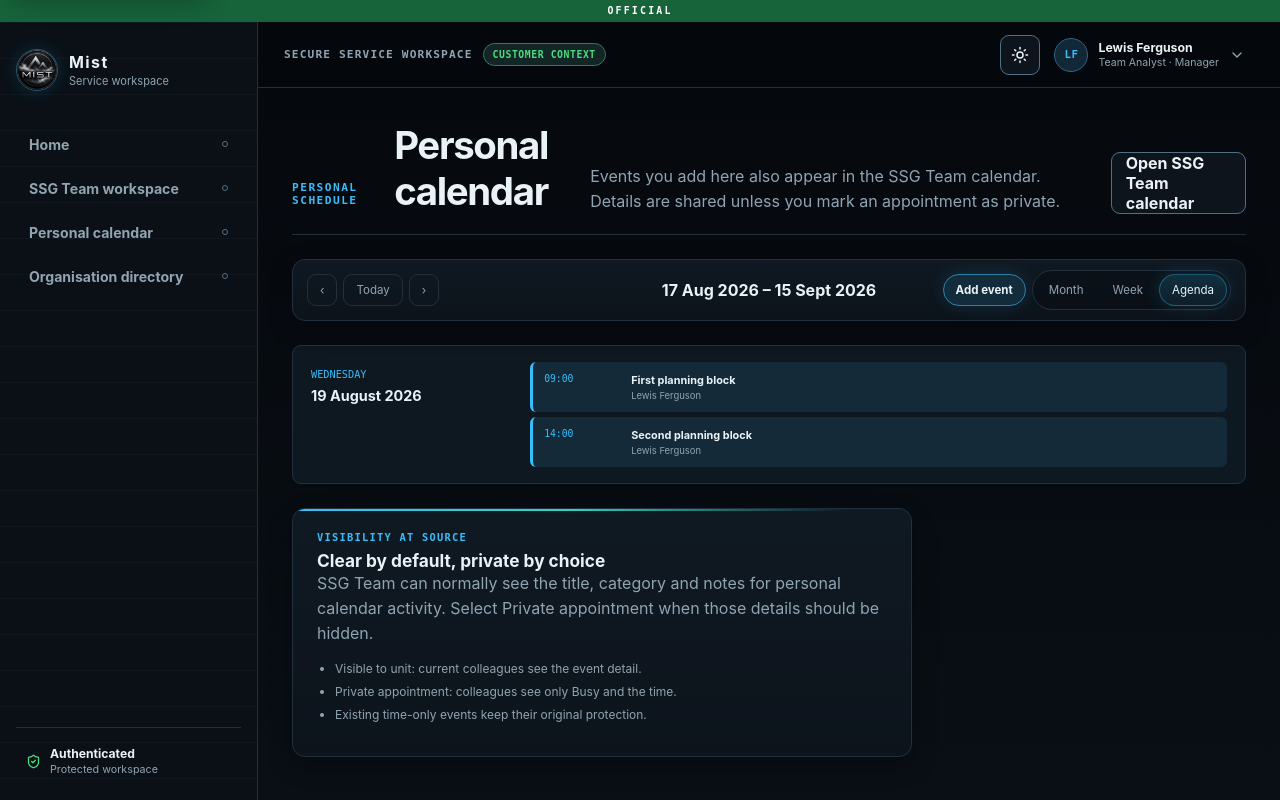
Scenario: canonical workforce calendar › resets editable values when a different occurrence is selected
Click the button "09:00 First planning block Lewis Ferguson" at (683,380), box [530,362,1227,412]
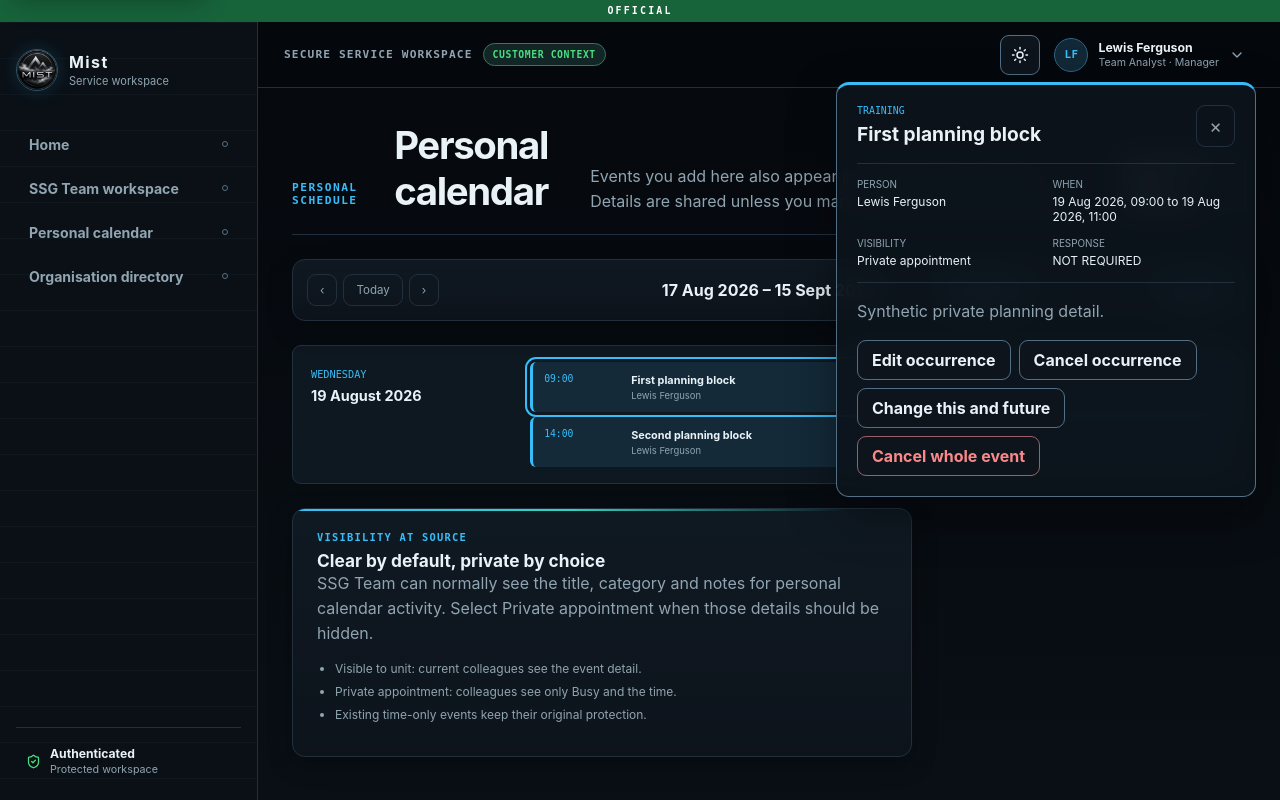
Click the button "Edit occurrence" at (934,360), box [857,340,1011,380]
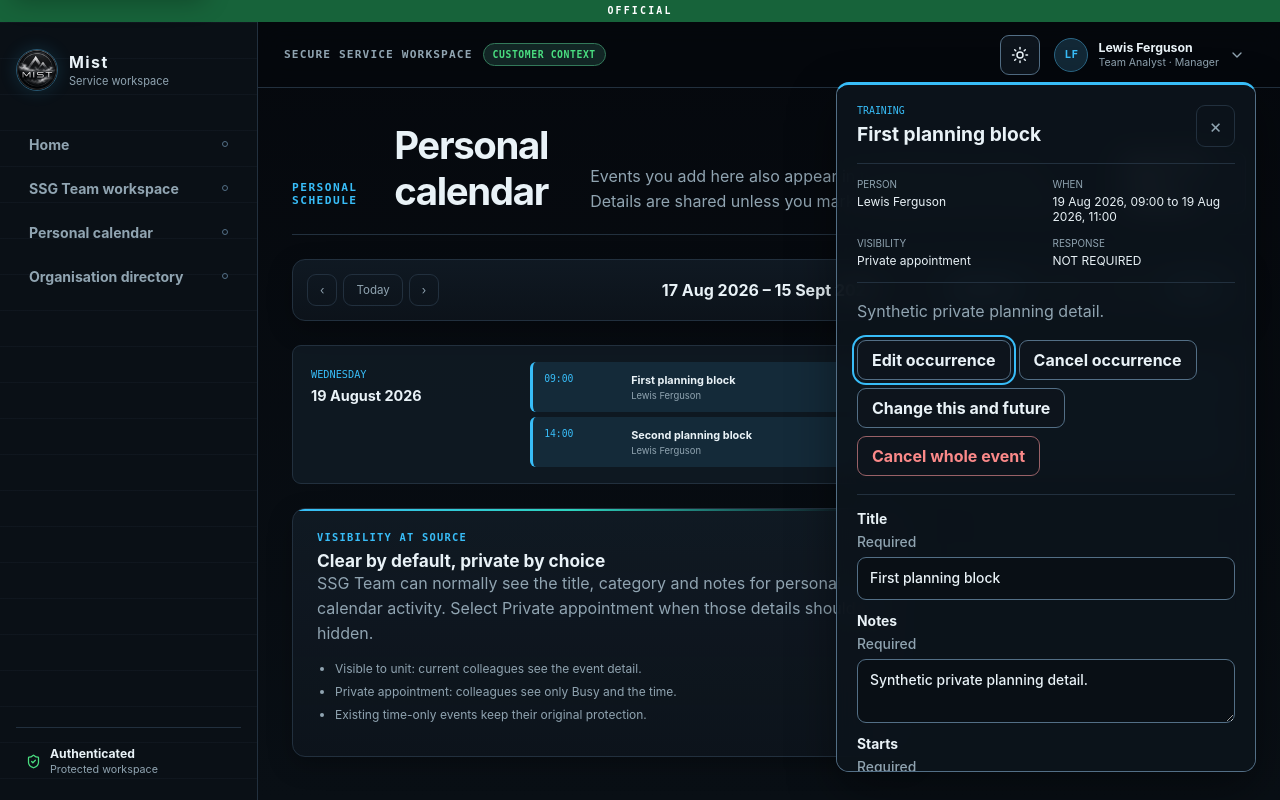
Replace the text in the field labelled "Title Required" with "Unsaved first occurrence value" at (1046,578), box [857,557,1235,600]
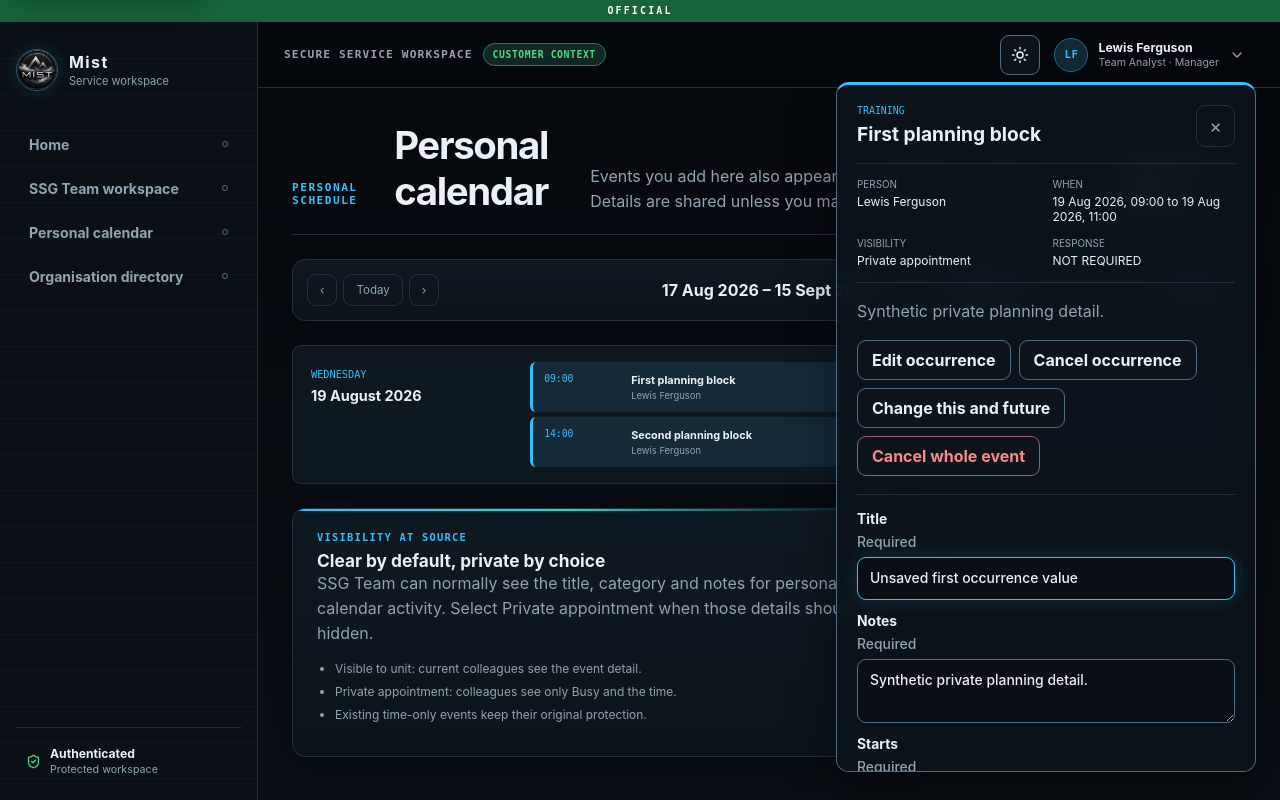
Click the button "14:00 Second planning block Lewis Ferguson" at (692,435), box [530,417,1227,467]
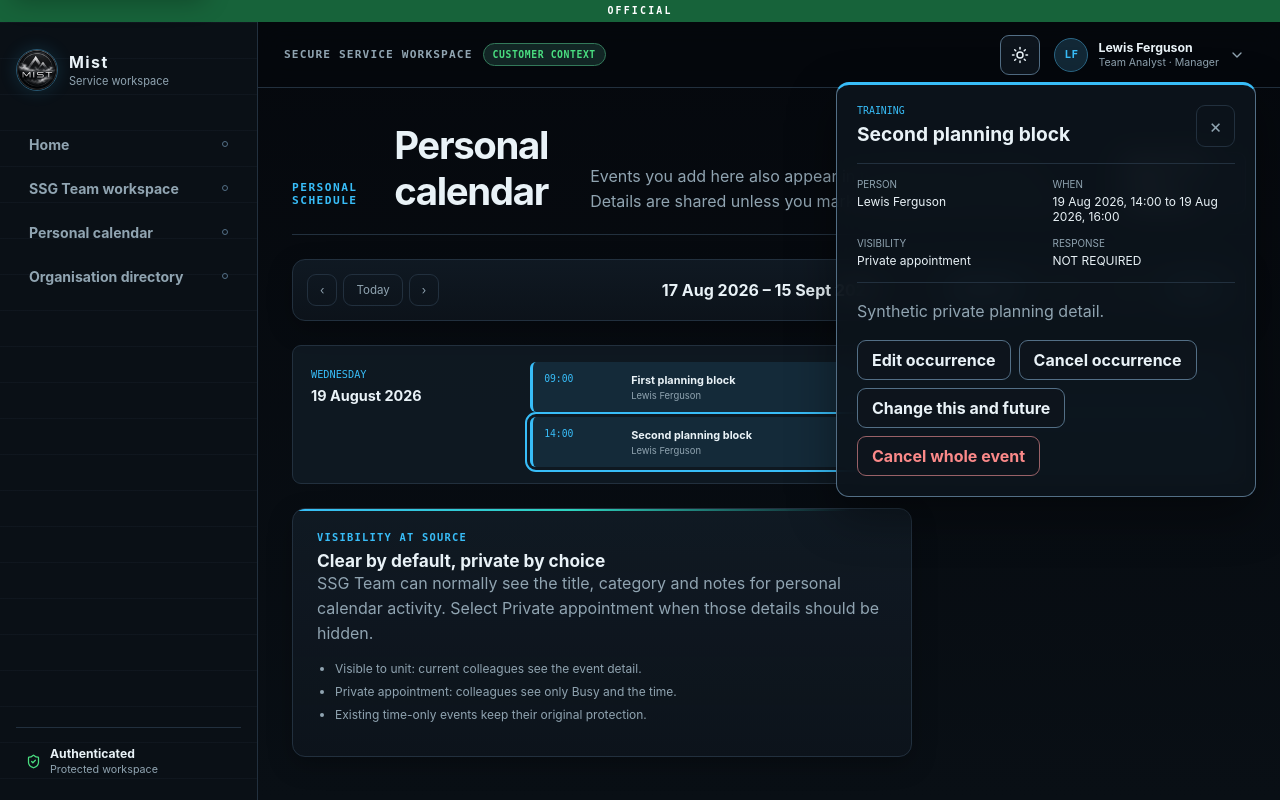
Click the button "Edit occurrence" at (934,360), box [857,340,1011,380]
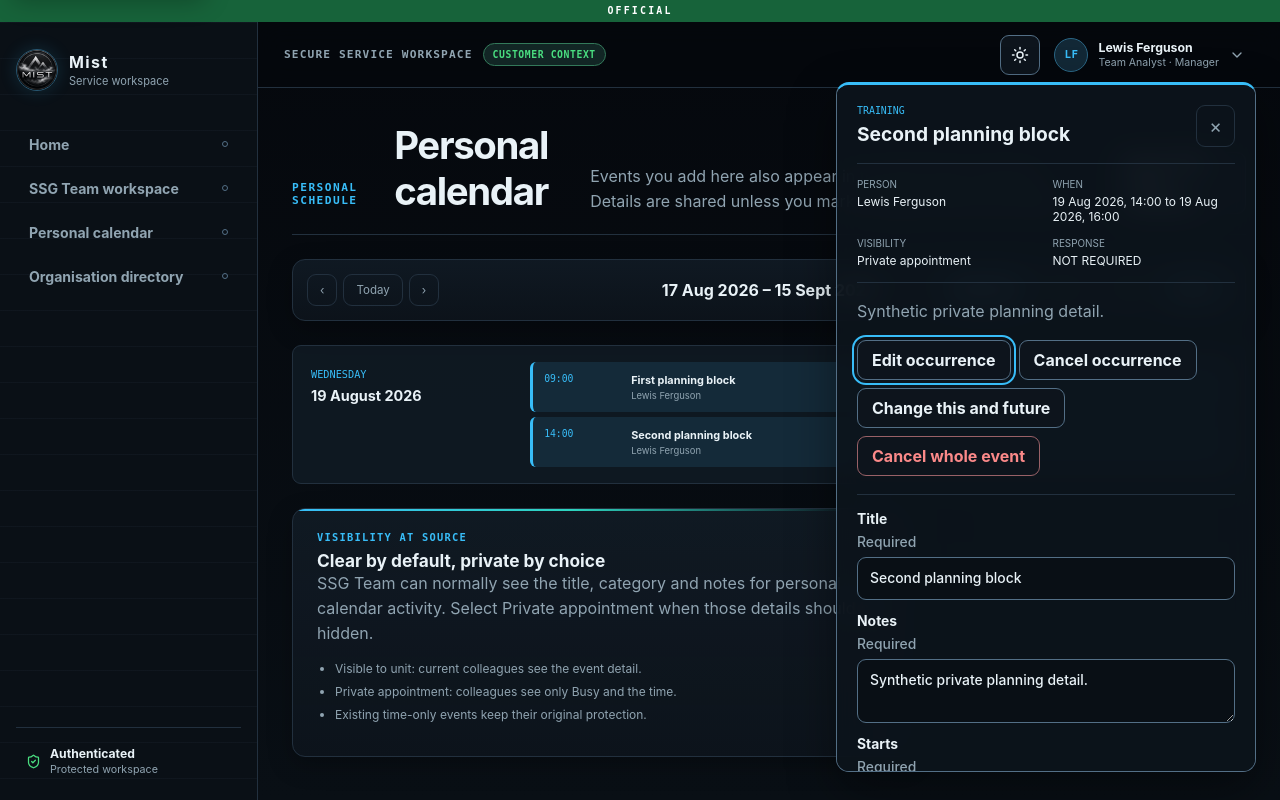
Expected: the field labelled "Title Required" holds "Second planning block", [857,557,1235,600]
